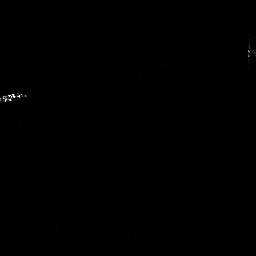ship: (1, 88, 31, 106)
